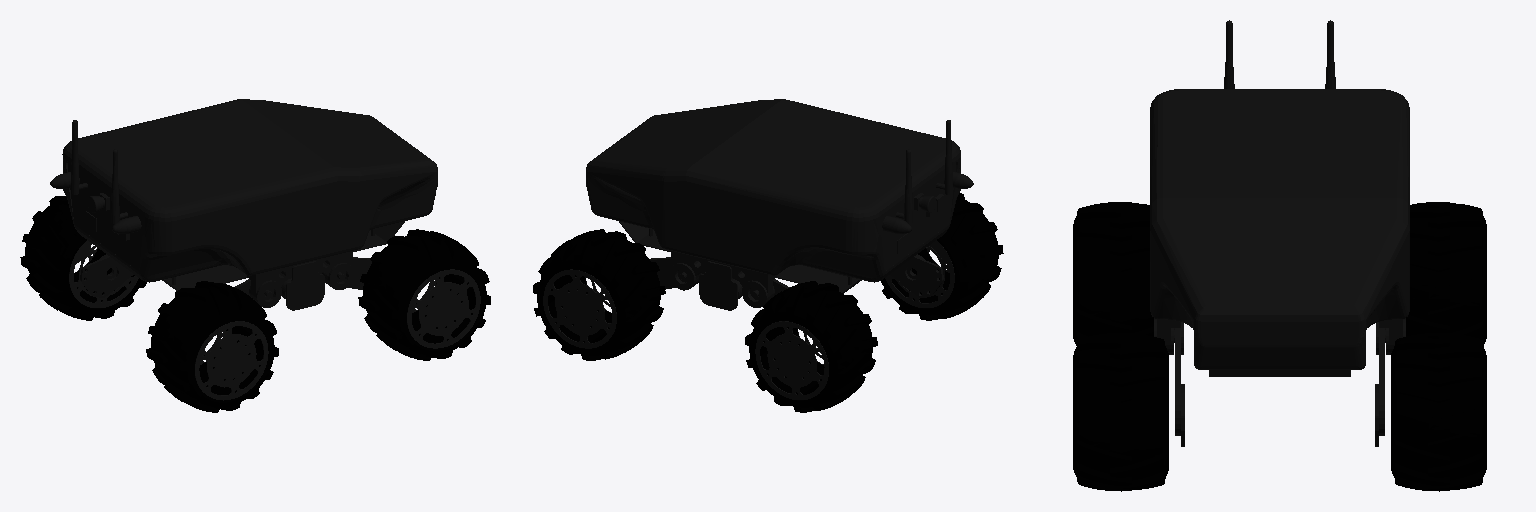
URDF robot description (summit_xl):
<?xml version="1.0" ?>
<!-- =================================================================================== -->
<!-- |    This document was autogenerated by xacro from summit_xl_gen_std.urdf.xacro   | -->
<!-- |    EDITING THIS FILE BY HAND IS NOT RECOMMENDED                                 | -->
<!-- =================================================================================== -->
<robot name="summit_xl">
  <!-- *************** -->
  <!-- Robots Elements -->
  <!-- *************** -->
  <!-- Here we create the robot elements using the xacro:macros imported at the beggining of this file -->
  <link name="robot_base_footprint">
    <visual>
      <origin rpy="0 0 0" xyz="0 0 0"/>
      <geometry>
        <box size="0.001 0.001 0.001"/>
      </geometry>
    </visual>
  </link>
  <joint name="robot_base_footprint_joint" type="fixed">
    <origin rpy="0 0 0" xyz="0 0 0.11"/>
    <!-- ${wheel_radius} property must be defined inside wheel description -->
    <parent link="robot_base_footprint"/>
    <child link="robot_base_link"/>
  </joint>
  <!-- BASE_LINK -->
  <link name="robot_base_link">
    <inertial>
      <mass value="25.0"/>
      <origin xyz="0 0 0"/>
      <inertia ixx="1.391" ixy="0.004" ixz="0.0" iyy="6.853" iyz="0.0" izz="6.125"/>
    </inertial>
    <visual>
      <origin rpy="0 0 0" xyz="0 0 0"/>
      <geometry>
        <mesh filename="summit_xl_chassis.dae"/>
      </geometry>
      <material name="darkgrey">
        <color rgba="0.1 0.1 0.1 1"/>
      </material>
    </visual>
    <collision>
      <origin rpy="0 0 0 " xyz="0 0 0"/>
      <geometry>
        <mesh filename="summit_xl_chassis_collision.dae"/>
      </geometry>
    </collision>
  </link>
  <!-- DOCKING CONTACTS -->
  <joint name="robot_base_docking_joint" type="fixed">
    <origin rpy="0 0 0 " xyz="0.284 0.012 0.068"/>
    <parent link="robot_base_link"/>
    <child link="robot_base_docking_contact_link"/>
  </joint>
  <!-- DOCKING LINK -->
  <link name="robot_base_docking_contact_link"/>
  <!--WHEEL TIRE -->
  <joint name="robot_front_right_wheel_joint" type="revolute">
    <parent link="robot_base_link"/>
    <child link="robot_front_right_wheel"/>
    <origin rpy="0 0 0" xyz="0.229 -0.235 0.0"/>
    <axis rpy="0 0 0" xyz="0 1 0"/>
    <limit effort="100" velocity="100" lower="-1000000" upper="1000000"/>
    <joint_properties damping="0.0" friction="0.0"/>
  </joint>
  <link name="robot_front_right_wheel">
    <visual>
      <origin rpy="0 0 0" xyz="0 0 0"/>
      <geometry>
        <mesh filename="rubber_wheel_right.dae"/>
      </geometry>
    </visual>
    <collision>
      <origin rpy="1.5707963267948966 0 0" xyz="0 0 0"/>
      <geometry>
        <cylinder length="0.15" radius="0.11"/>
      </geometry>
    </collision>
    <inertial>
      <mass value="6.5"/>
      <origin xyz="0 0 0"/>
      <inertia ixx="0.031849999999999996" ixy="0" ixz="0" iyy="0.039325" iyz="0" izz="0.031849999999999996"/>
    </inertial>
  </link>
  <!--WHEEL TIRE -->
  <joint name="robot_front_left_wheel_joint" type="revolute">
    <parent link="robot_base_link"/>
    <child link="robot_front_left_wheel"/>
    <origin rpy="0 0 0" xyz="0.229 0.235 0.0"/>
    <axis rpy="0 0 0" xyz="0 1 0"/>
    <limit effort="100" velocity="100" lower="-1000000" upper="1000000"/>
    <joint_properties damping="0.0" friction="0.0"/>
  </joint>
  <link name="robot_front_left_wheel">
    <visual>
      <origin rpy="0 0 0" xyz="0 0 0"/>
      <geometry>
        <mesh filename="rubber_wheel_left.dae"/>
      </geometry>
    </visual>
    <collision>
      <origin rpy="1.5707963267948966 0 0" xyz="0 0 0"/>
      <geometry>
        <cylinder length="0.15" radius="0.11"/>
      </geometry>
    </collision>
    <inertial>
      <mass value="6.5"/>
      <origin xyz="0 0 0"/>
      <inertia ixx="0.031849999999999996" ixy="0" ixz="0" iyy="0.039325" iyz="0" izz="0.031849999999999996"/>
    </inertial>
  </link>
  <!--WHEEL TIRE -->
  <joint name="robot_back_left_wheel_joint" type="revolute">
    <parent link="robot_base_link"/>
    <child link="robot_back_left_wheel"/>
    <origin rpy="0 0 0" xyz="-0.229 0.235 0.0"/>
    <axis rpy="0 0 0" xyz="0 1 0"/>
    <limit effort="100" velocity="100" lower="-1000000" upper="1000000"/>
    <joint_properties damping="0.0" friction="0.0"/>
  </joint>
  <link name="robot_back_left_wheel">
    <visual>
      <origin rpy="0 0 0" xyz="0 0 0"/>
      <geometry>
        <mesh filename="rubber_wheel_left.dae"/>
      </geometry>
    </visual>
    <collision>
      <origin rpy="1.5707963267948966 0 0" xyz="0 0 0"/>
      <geometry>
        <cylinder length="0.15" radius="0.11"/>
      </geometry>
    </collision>
    <inertial>
      <mass value="6.5"/>
      <origin xyz="0 0 0"/>
      <inertia ixx="0.031849999999999996" ixy="0" ixz="0" iyy="0.039325" iyz="0" izz="0.031849999999999996"/>
    </inertial>
  </link>
  <!--WHEEL TIRE -->
  <joint name="robot_back_right_wheel_joint" type="revolute">
    <parent link="robot_base_link"/>
    <child link="robot_back_right_wheel"/>
    <origin rpy="0 0 0" xyz="-0.229 -0.235 0.0"/>
    <axis rpy="0 0 0" xyz="0 1 0"/>
    <limit effort="100" velocity="100" lower="-1000000" upper="1000000"/>
    <joint_properties damping="0.0" friction="0.0"/>
  </joint>
  <link name="robot_back_right_wheel">
    <visual>
      <origin rpy="0 0 0" xyz="0 0 0"/>
      <geometry>
        <mesh filename="rubber_wheel_right.dae"/>
      </geometry>
    </visual>
    <collision>
      <origin rpy="1.5707963267948966 0 0" xyz="0 0 0"/>
      <geometry>
        <cylinder length="0.15" radius="0.11"/>
      </geometry>
    </collision>
    <inertial>
      <mass value="6.5"/>
      <origin xyz="0 0 0"/>
      <inertia ixx="0.031849999999999996" ixy="0" ixz="0" iyy="0.039325" iyz="0" izz="0.031849999999999996"/>
    </inertial>
  </link>
  <joint name="robot_imu_joint" type="fixed">
    <axis xyz="1 0 0"/>
    <!--origin xyz="0 0 0.2825"/-->
    <origin rpy="0 0 0" xyz="-0.18 0.0 0.170"/>
    <parent link="robot_base_link"/>
    <child link="robot_imu_link"/>
  </joint>
  <link name="robot_imu_link">
    <inertial>
      <origin rpy="0 0 0" xyz="0.0 0 0.01"/>
      <mass value="0.005"/>
      <inertia ixx="8.333333333333334e-10" ixy="0" ixz="0" iyy="8.333333333333334e-10" iyz="0" izz="8.333333333333334e-10"/>
    </inertial>
    <visual>
      <origin rpy="0 0 0" xyz="0 0 0"/>
      <geometry>
        <box size="0.001 0.001 0.001"/>
      </geometry>
    </visual>
    <!--collision>
	        <origin rpy="0 0 0" xyz="0 0 0"/>
	        <geometry>
	          <box size="0.001 0.001 0.001"/>
	        </geometry>
	      </collision-->
  </link>
</robot>


--- Facts derived from the render (not from the file) ---
Views: 3 orthographic renders of the robot side by side, from view 1: azimuth 30°, elevation 25°; view 2: azimuth 150°, elevation 25°; view 3: azimuth 270°, elevation 25°.
Model summit_xl with 8 links and 7 joints (4 revolute, 3 fixed), rooted at robot_base_footprint, posed all joints at 0.
Links seen in each view (by area): view 1: robot_base_link, robot_front_right_wheel, robot_back_right_wheel, robot_back_left_wheel; view 2: robot_base_link, robot_front_left_wheel, robot_back_left_wheel, robot_back_right_wheel; view 3: robot_base_link, robot_front_left_wheel, robot_front_right_wheel, robot_back_right_wheel, robot_back_left_wheel.
Boxes of the visible links, x1,y1,x2,y2 form: robot_base_link: (50,99,437,310); robot_front_right_wheel: (358,229,490,360); robot_back_right_wheel: (146,281,278,412); robot_back_left_wheel: (20,196,146,320); robot_base_link: (586,99,973,310); robot_front_left_wheel: (533,229,665,360); robot_back_left_wheel: (745,281,877,412); robot_back_right_wheel: (881,193,1003,320); robot_base_link: (1150,20,1409,446); robot_front_left_wheel: (1391,333,1486,491); robot_front_right_wheel: (1073,333,1168,491); robot_back_right_wheel: (1073,202,1153,345); robot_back_left_wheel: (1406,202,1486,346).
Bounding box of the posed robot: 0.7226 × 0.6125 × 0.4873 m (x, y, z).
5 mesh visuals loaded from 3 distinct referenced files (3 Collada DAE).